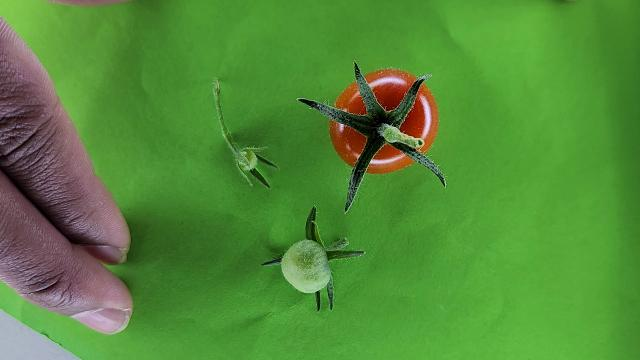Fruit Bud: (232, 148, 261, 176)
Fruit Maturation: (281, 239, 334, 296)
Fully Grown: (328, 64, 444, 176)
